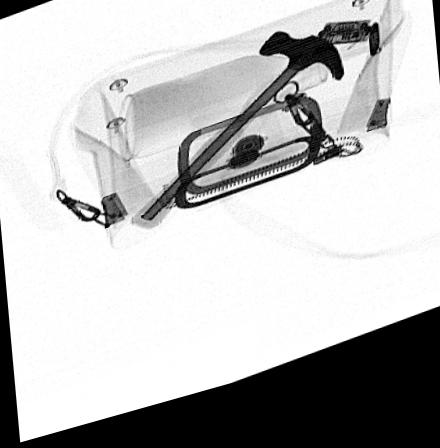Hammer: (129, 45, 344, 238)
